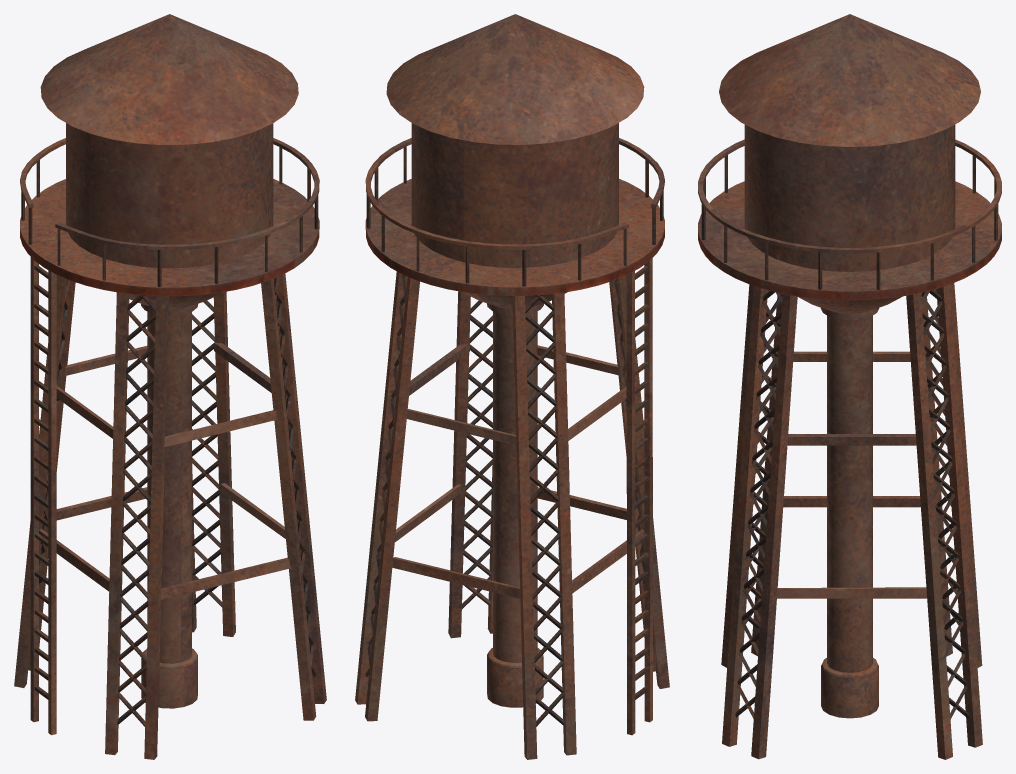
File: Water_Tower_2.fbx
The picture shows the model from 3 angles, left to right: view 1: azimuth 30°, elevation 25°; view 2: azimuth 150°, elevation 25°; view 3: azimuth 270°, elevation 25°; orthographic projection.
Visible parts, largest first — view 1: Cylinder.032; view 2: Cylinder.032; view 3: Cylinder.032.
Boxes of the visible parts, x1,y1,x2,y2 form: Cylinder.032: (14, 14, 326, 759); Cylinder.032: (355, 14, 669, 759); Cylinder.032: (698, 14, 1001, 759).
Size of the model in its own units: 832 by 2092 by 832.
